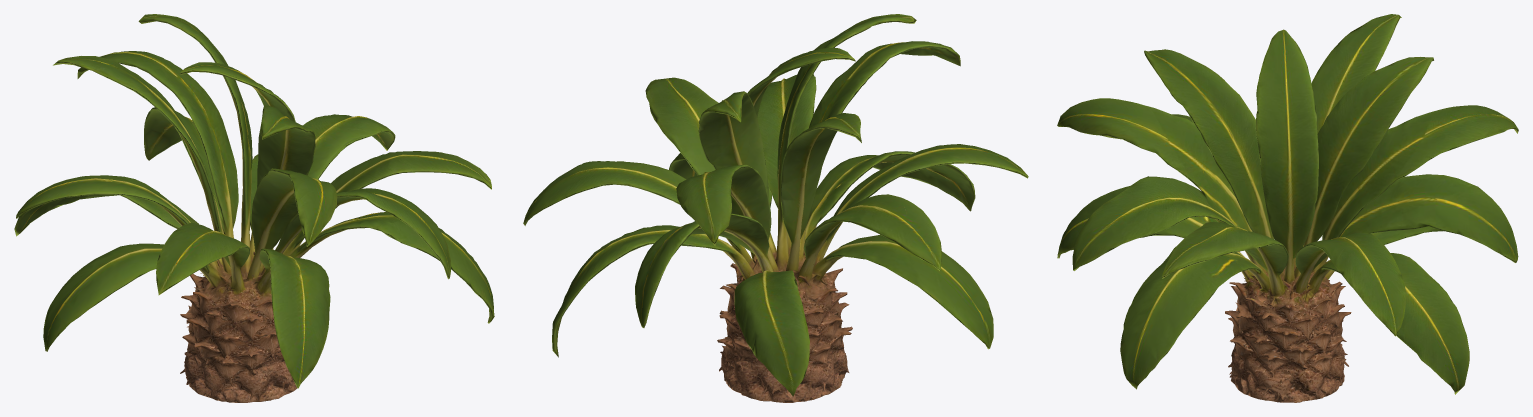
Rendered from bjuvia.raw.glb.
3 views of the same model, side by side, from view 1: azimuth 30°, elevation 25°; view 2: azimuth 150°, elevation 25°; view 3: azimuth 270°, elevation 25° (orthographic). The views are drawn at different scales.
Visible parts, largest first — view 1: tripo_node_9f7bf125-5318-4e4a-ad99-11354189f005; view 2: tripo_node_9f7bf125-5318-4e4a-ad99-11354189f005; view 3: tripo_node_9f7bf125-5318-4e4a-ad99-11354189f005.
Part boxes in pixels (bbox=[...]): tripo_node_9f7bf125-5318-4e4a-ad99-11354189f005: bbox=[14, 14, 494, 402]; tripo_node_9f7bf125-5318-4e4a-ad99-11354189f005: bbox=[523, 14, 1028, 402]; tripo_node_9f7bf125-5318-4e4a-ad99-11354189f005: bbox=[1057, 14, 1518, 402].
Bounding box in the file's own units: 0.9767 × 0.7662 × 1.
1 material, 1 textured.
